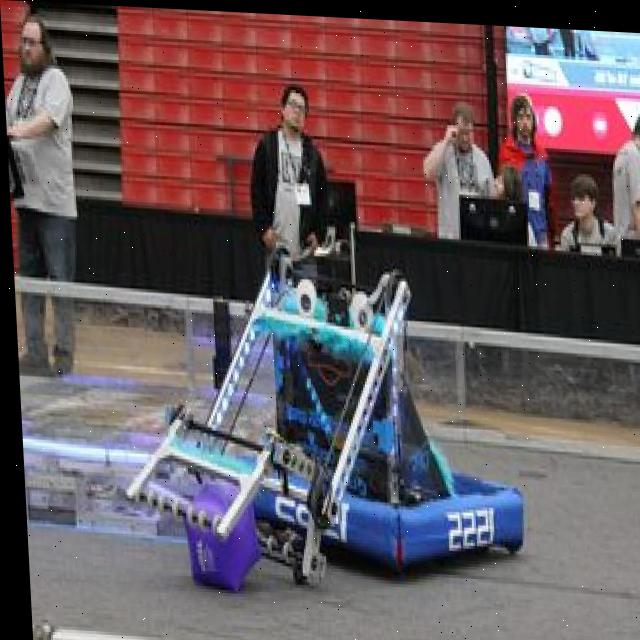robot: (108, 153, 522, 629)
